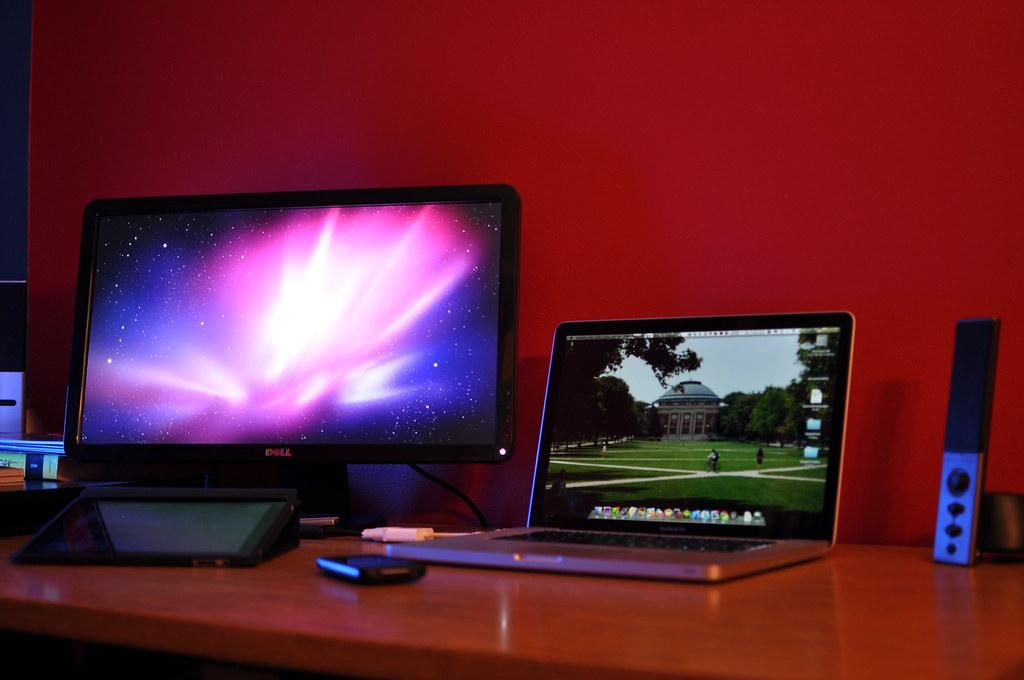computer: (62, 183, 522, 533), (388, 311, 857, 585)
